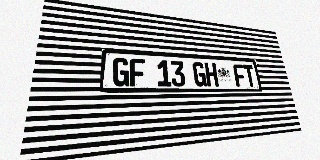1: (156, 60, 172, 86)
3: (170, 61, 186, 87)
F: (130, 58, 145, 86), (233, 64, 247, 87)
G: (112, 57, 129, 86), (192, 62, 207, 87)
H: (204, 62, 219, 87)
T: (243, 65, 257, 87)
